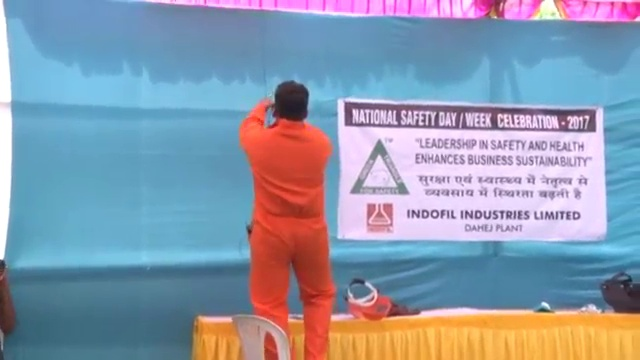helmet_off: (272, 79, 309, 123)
person: (233, 78, 342, 360)
